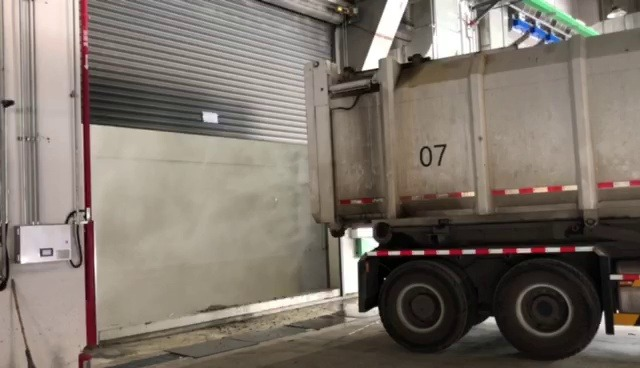dust: (96, 171, 311, 296)
truck: (295, 29, 640, 363)
